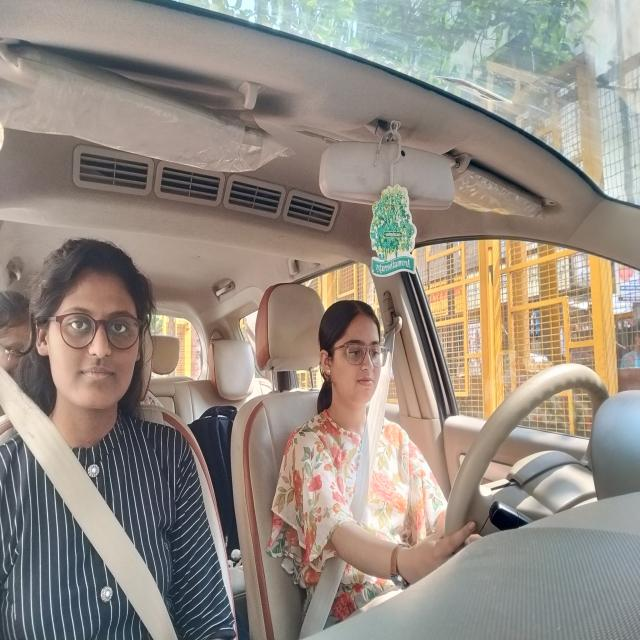person: (42, 255, 153, 411), (319, 312, 386, 407), (4, 288, 30, 376)
